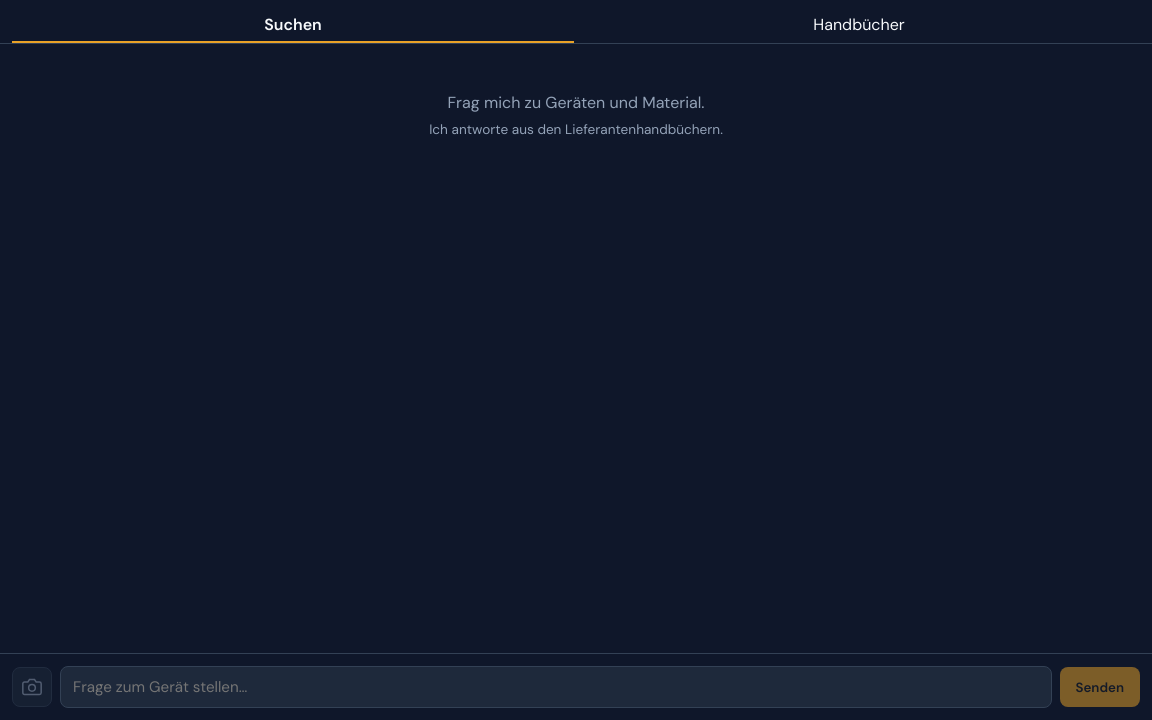
Test: WikiBot — Handbuchliste › sagt beim leeren Wiki, wo die Handbücher herkommen
Click the button "Handbücher" at {"x": 859, "y": 26}, box x1=578 y1=8 x2=1140 y2=43
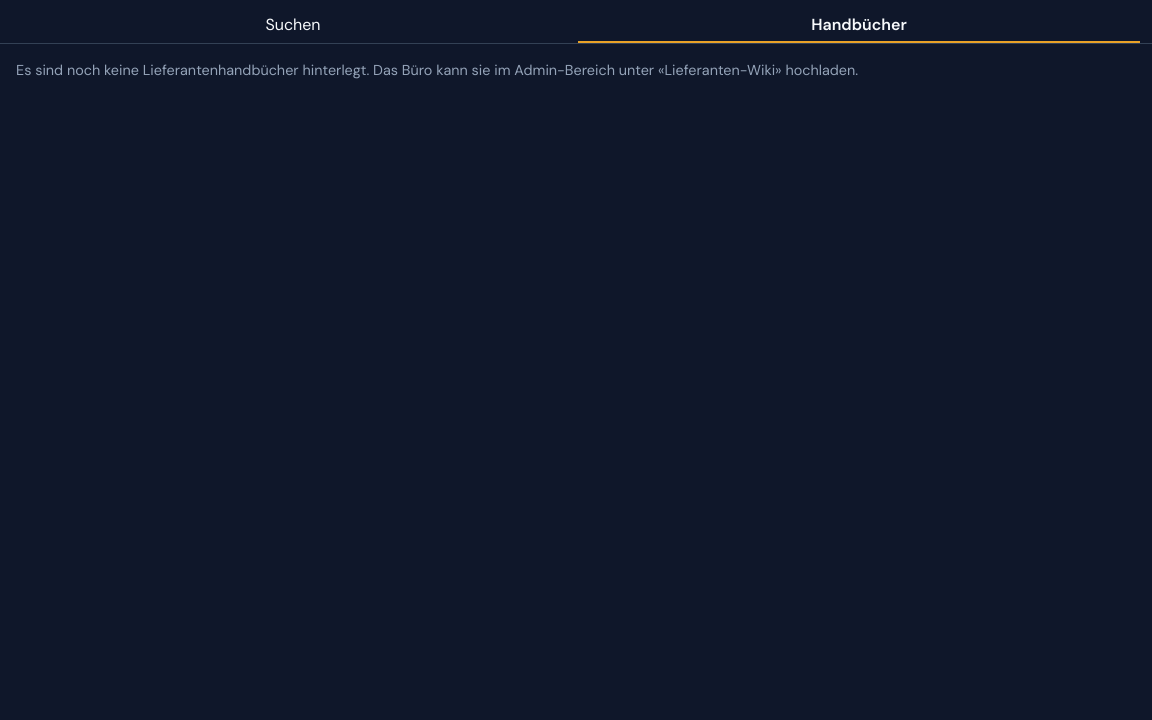
Expected: the text "noch keine Lieferantenhandbücher" is shown, x1=16 y1=61 x2=858 y2=79
